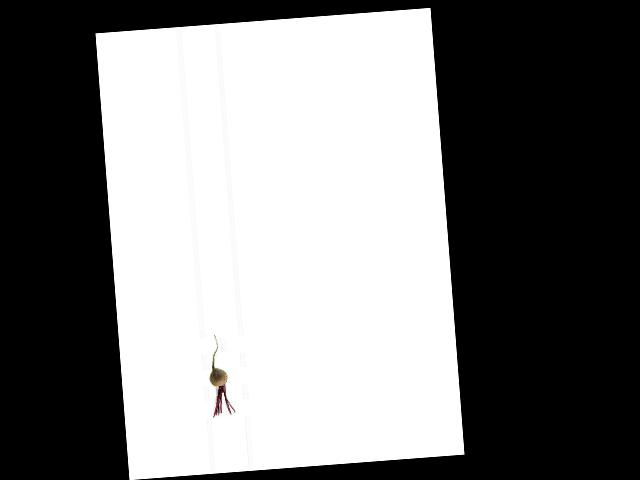beet: (206, 333, 234, 416)
